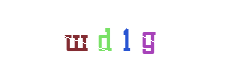1: (75, 0, 155, 80)
D: (65, 0, 145, 80)
G: (98, 0, 178, 80)
W: (36, 0, 116, 80)
